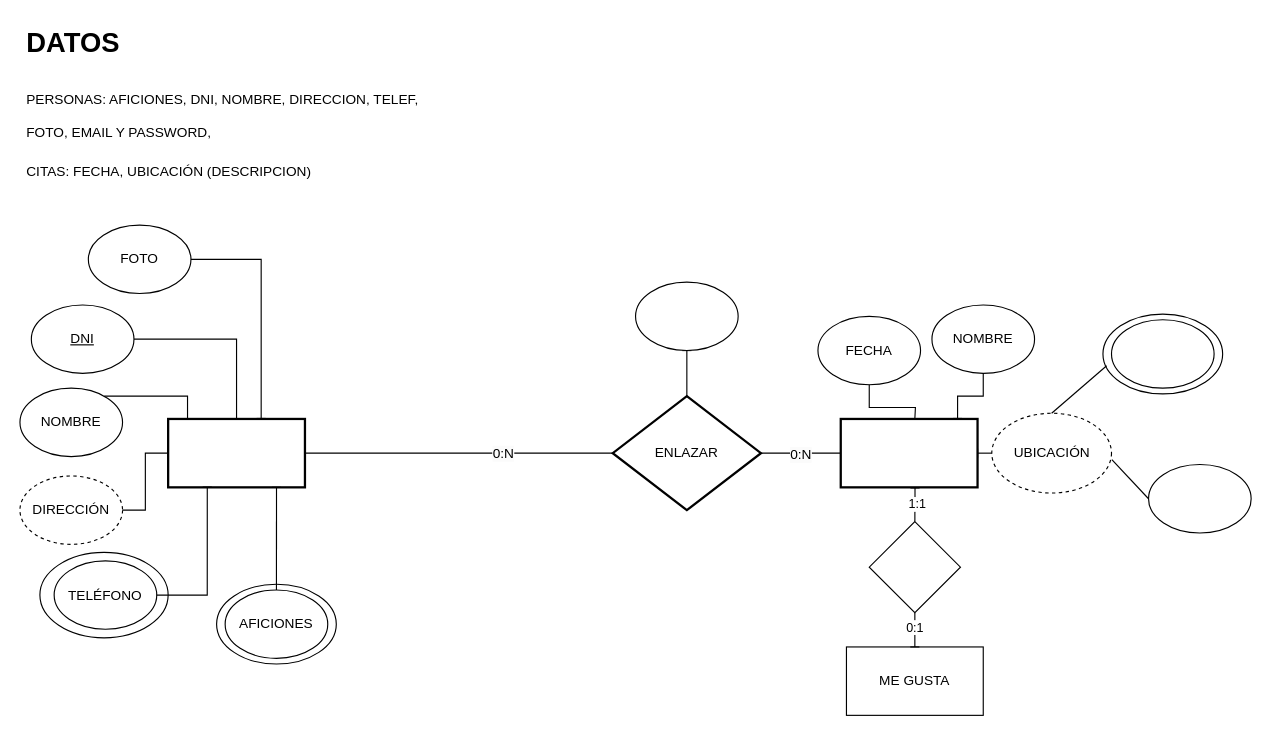
Some shapes in this 1271 by 735 pixel diagram are drawn without their labels. The box of each missing label's shape, as (x1, y1, x2, y2) in pixels:
CADA 24H: (634, 281, 738, 351)
CITAS: (839, 417, 978, 488)
DESCRIPCIÓN: (1147, 463, 1251, 533)
PERSONAS: (166, 417, 306, 488)
REALIZAR: (868, 520, 960, 613)
UBICACIONES: (1110, 319, 1214, 388)
